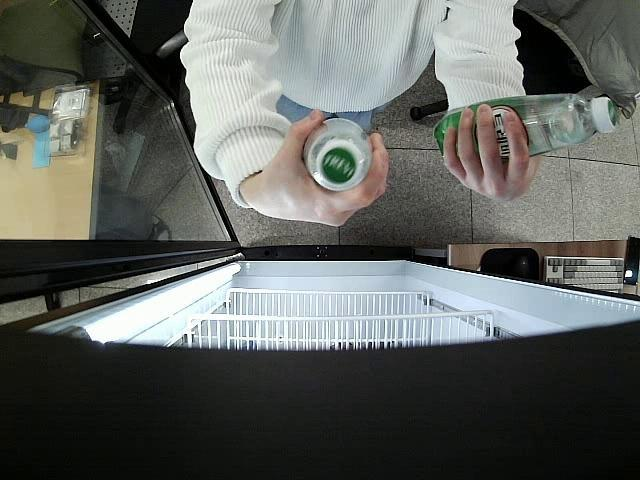18_trevi: (432, 94, 618, 156), (306, 118, 372, 193)
